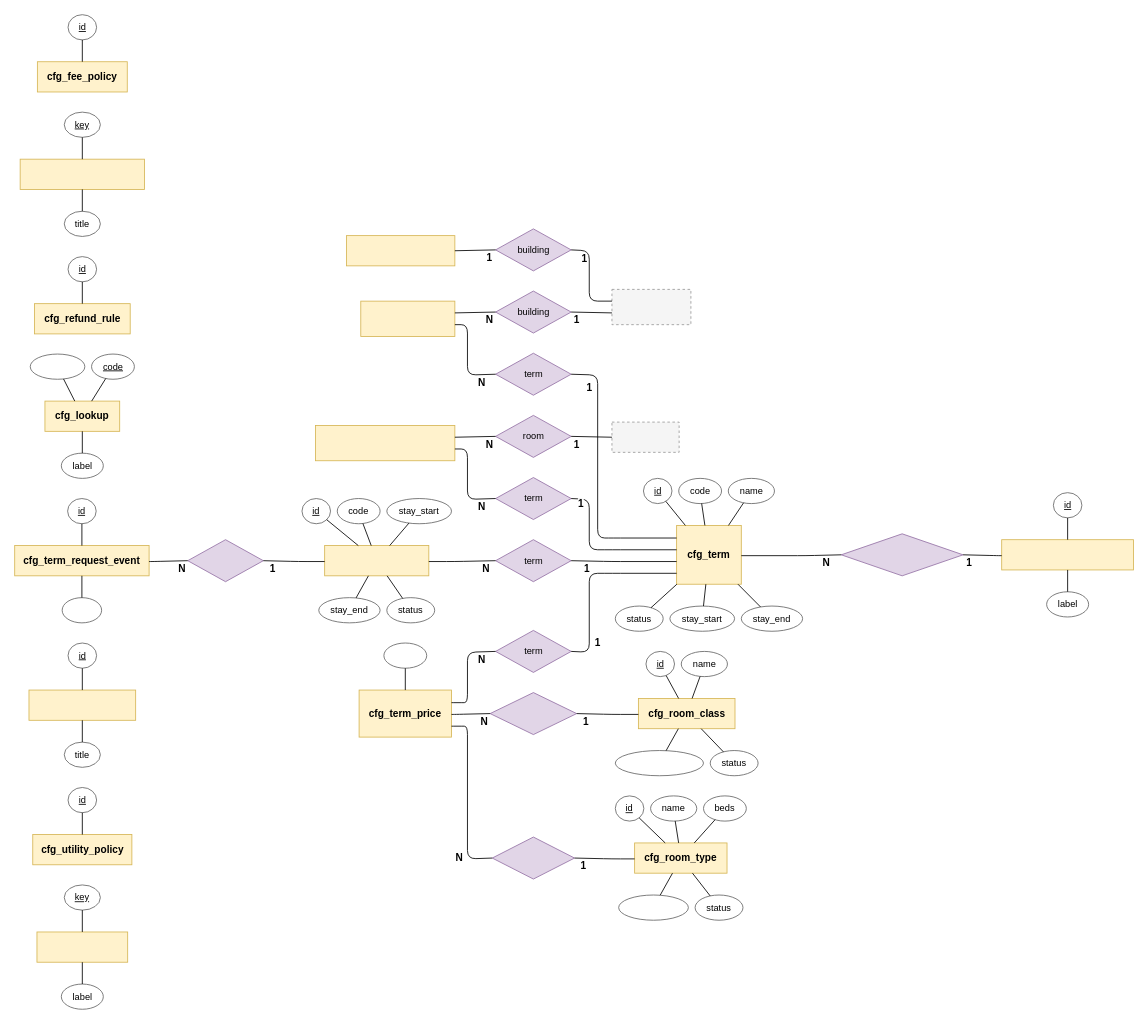
Image size: 1148x1024. Some labels were removed from this diagram. Here are the shapes that lost their labels. From the top down, the centre of each, then its label:
At [81,173]: "cfg_eligibility_criterion".
At [400,250]: "cfg_block_settings".
At [407,318]: "cfg_term_block".
At [651,307]: "inv_building".
At [57,366]: "list_key".
At [385,443]: "cfg_term_room_excluded".
At [645,436]: "inv_room".
At [225,560]: "request".
At [376,560]: "cfg_term_request".
At [901,554]: "matching snapshot".
At [1067,554]: "cfg_matching_snapshot".
At [81,610]: "kind".
At [405,655]: "price".
At [82,704]: "cfg_priority_group".
At [533,713]: "room class".
At [659,763]: "surcharge_rate".
At [533,857]: "room type".
At [653,907]: "base_price".
At [82,946]: "cfg_parameter".
